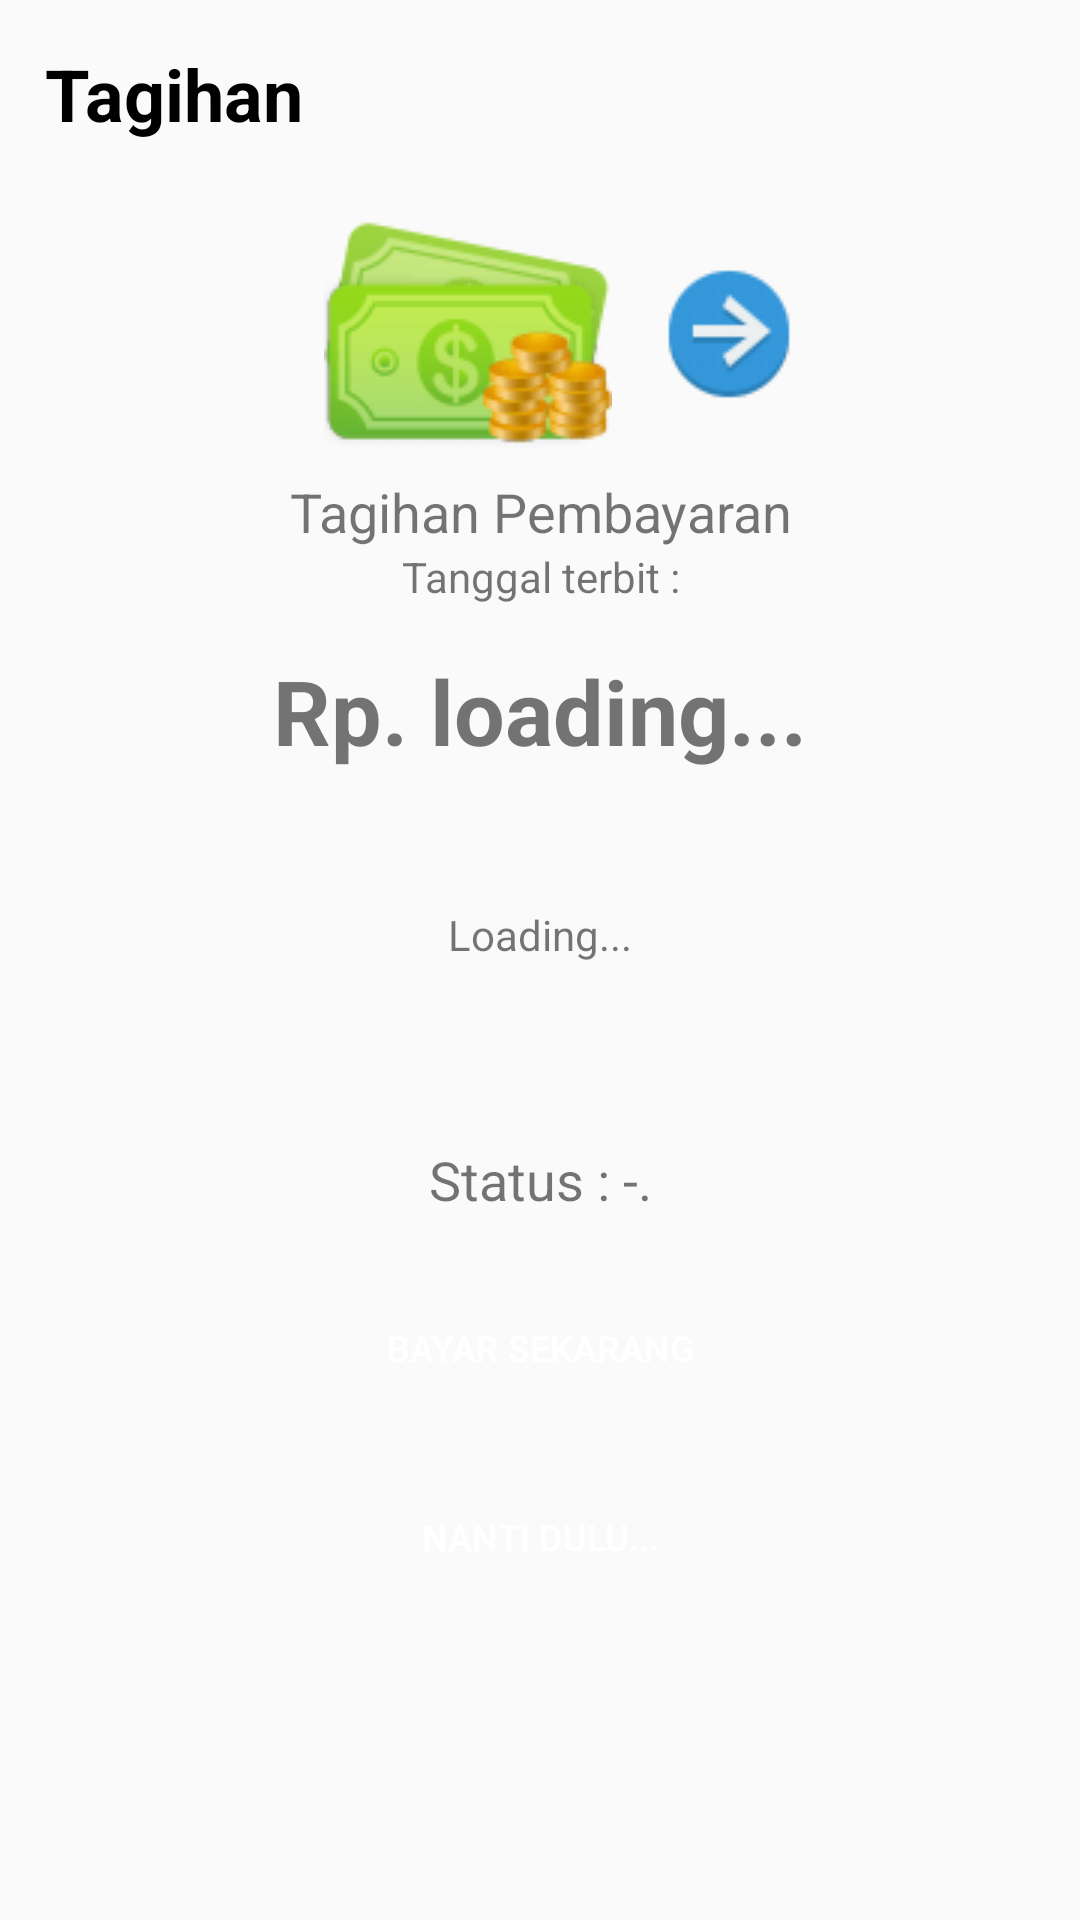

Icon click points for this 1080w x 1920h phone screenshot, format (x,y):
cash: (468,332)
right: (729,334)
